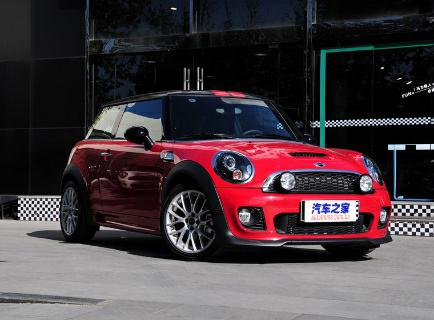MINI: (57, 99, 393, 261)
